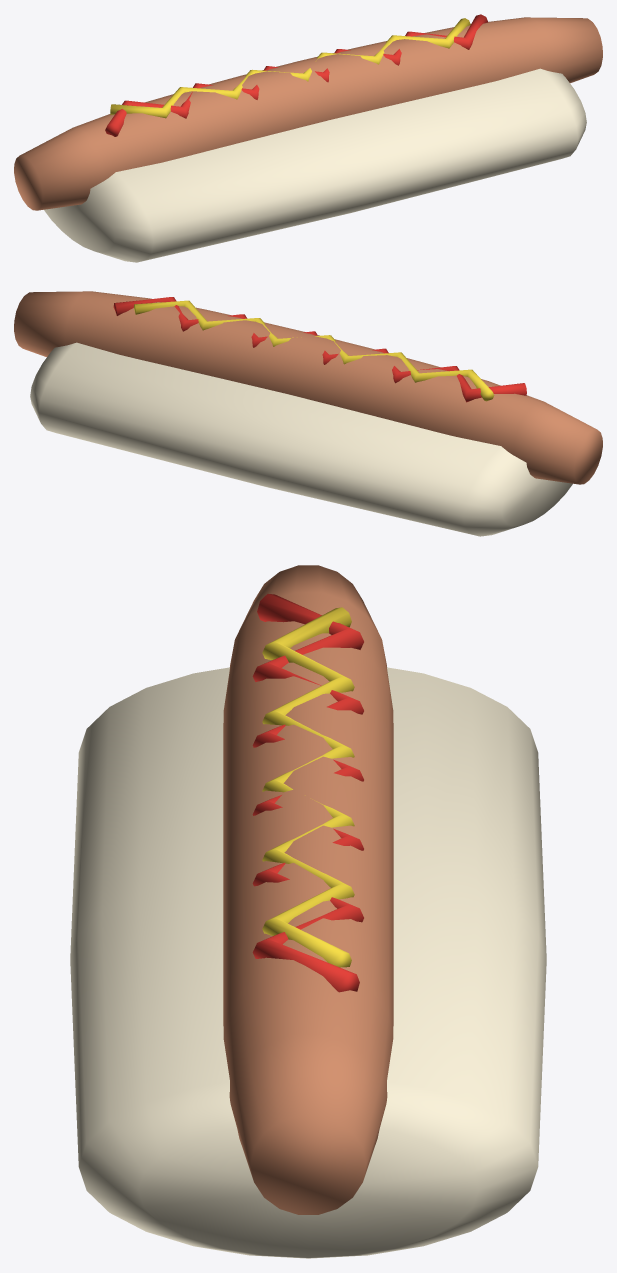
The model's file is SM_Hotdog.glb.
3 renders of one model, top to bottom at view 1: azimuth 30°, elevation 25°; view 2: azimuth 150°, elevation 25°; view 3: azimuth 270°, elevation 25°, orthographic. The views are drawn at different scales.
Parts seen in each view (by area): view 1: SM_Hotdog; view 2: SM_Hotdog; view 3: SM_Hotdog.
Boxes of the visible parts, <box> form: SM_Hotdog: <box>14,14,602,262</box>; SM_Hotdog: <box>14,291,602,536</box>; SM_Hotdog: <box>70,565,546,1258</box>.
Bounding box in the file's own units: 0.1913 × 0.0427 × 0.07.
